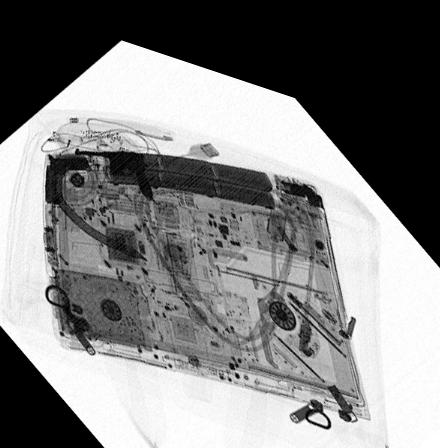Gun: (76, 140, 153, 191)
